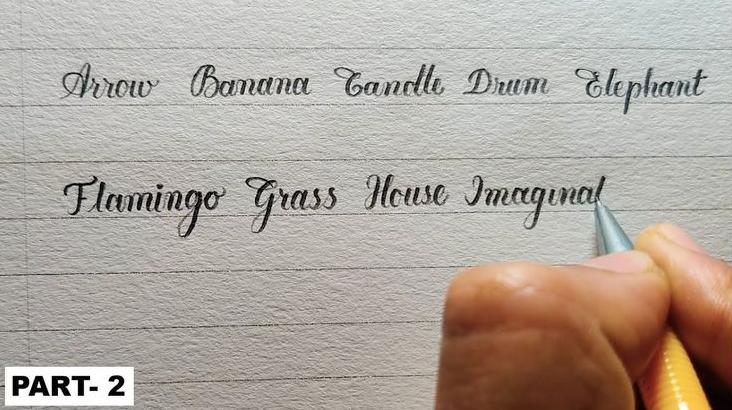text: (61, 171, 610, 242), (57, 60, 711, 118), (10, 372, 128, 398)
